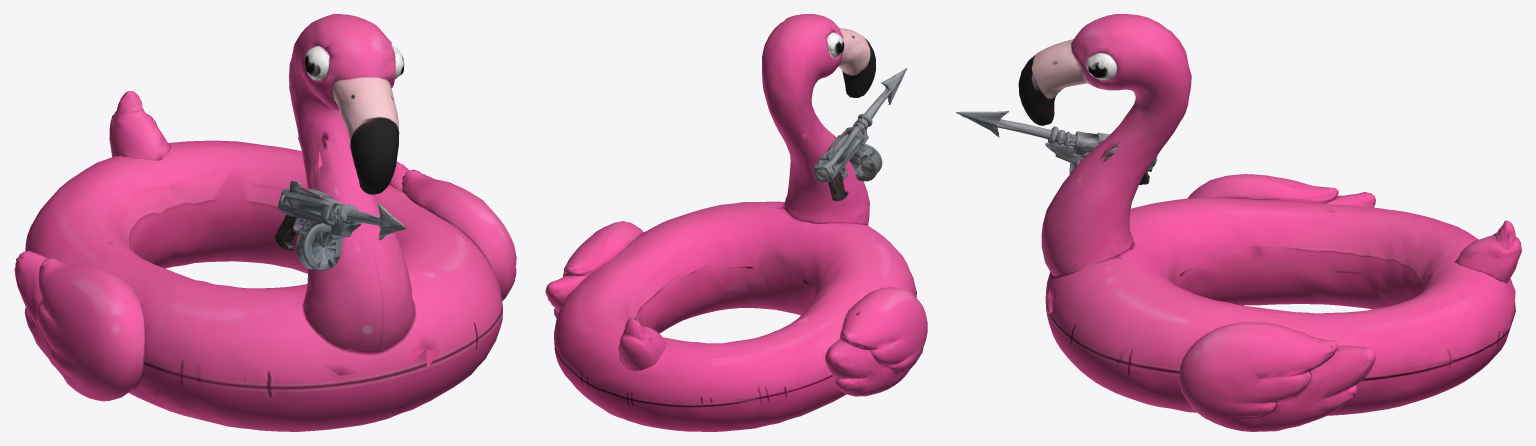
File: meshy-vehicle-flamingo-boat.glb
3 views of the same model, side by side, from view 1: azimuth 30°, elevation 25°; view 2: azimuth 150°, elevation 25°; view 3: azimuth 270°, elevation 25° (orthographic). The views are drawn at different scales.
Size of the model in its own units: 0.7344 by 0.6304 by 0.9536.
1 material, 1 textured.
